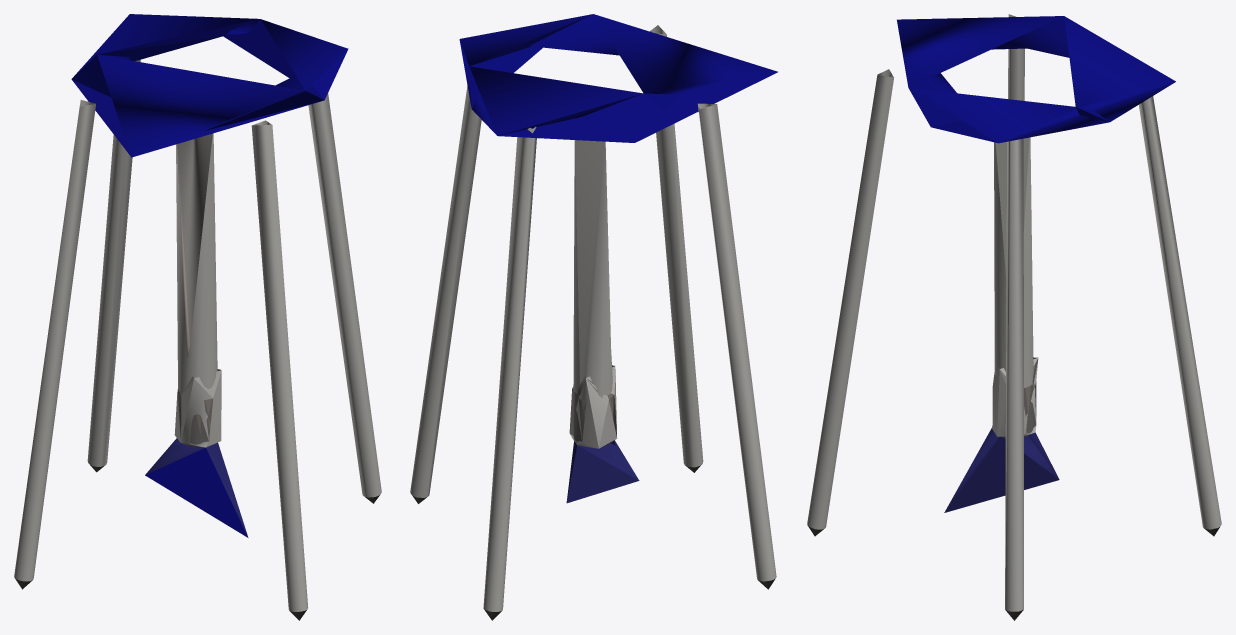
Rendered from bunsen-burner.glb.
3 renders of one model, left to right at view 1: azimuth 30°, elevation 25°; view 2: azimuth 150°, elevation 25°; view 3: azimuth 270°, elevation 25°, orthographic.
Visible parts, largest first — view 1: bunsen-burner; view 2: bunsen-burner; view 3: bunsen-burner.
Boxes of the visible parts, box(x1,y1,x2,y2) form: bunsen-burner: box(14, 14, 381, 620); bunsen-burner: box(410, 14, 777, 620); bunsen-burner: box(807, 14, 1221, 620).
Bounding box in the file's own units: 0.1371 × 0.1767 × 0.1371.
